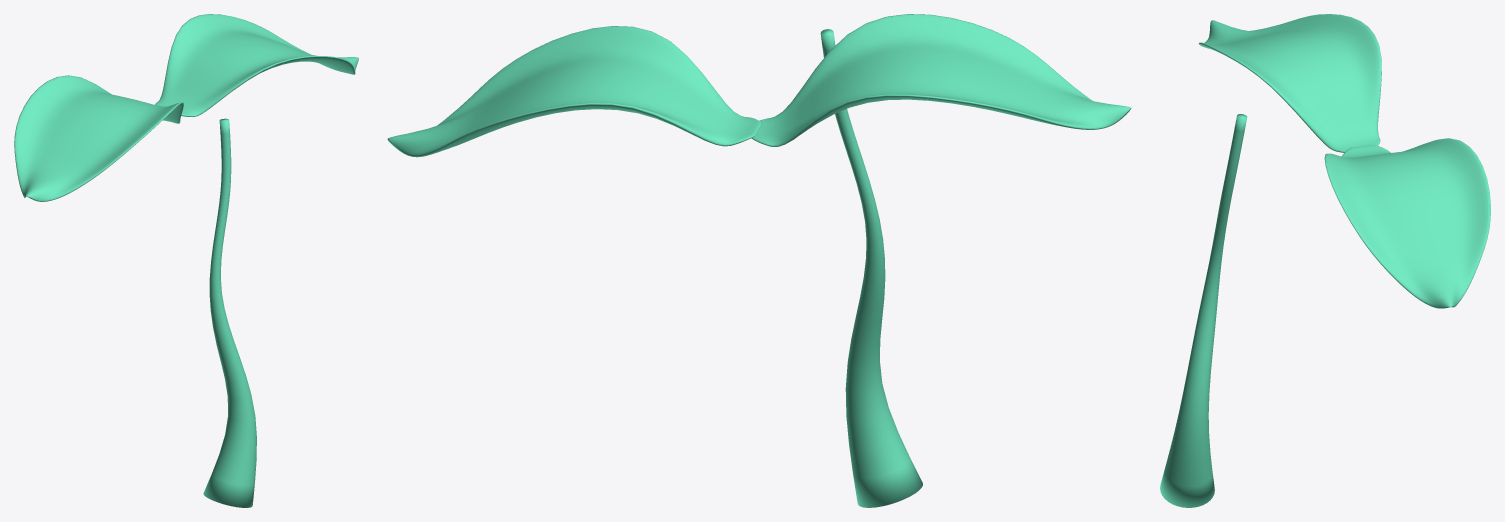
Rendered from Beanstalk#02.fbx.
The picture shows the model from 3 angles, left to right: view 1: azimuth 30°, elevation 25°; view 2: azimuth 150°, elevation 25°; view 3: azimuth 270°, elevation 25°; orthographic projection. The views are drawn at different scales.
Parts seen in each view (by area): view 1: Plane.006, Plane.004, Vert.005; view 2: Plane.006, Plane.004, Vert.005; view 3: Plane.004, Plane.006, Vert.005.
Part boxes in pixels (<box>): Plane.006: <box>14,75,183,201</box>; Plane.004: <box>155,14,358,116</box>; Vert.005: <box>203,118,256,507</box>; Plane.006: <box>751,14,1131,146</box>; Plane.004: <box>387,26,761,157</box>; Vert.005: <box>820,29,922,507</box>; Plane.004: <box>1324,138,1490,308</box>; Plane.006: <box>1199,14,1381,152</box>; Vert.005: <box>1160,114,1247,507</box>.
Size of what is drawn, in the model's own units: 531 by 445 by 318.
